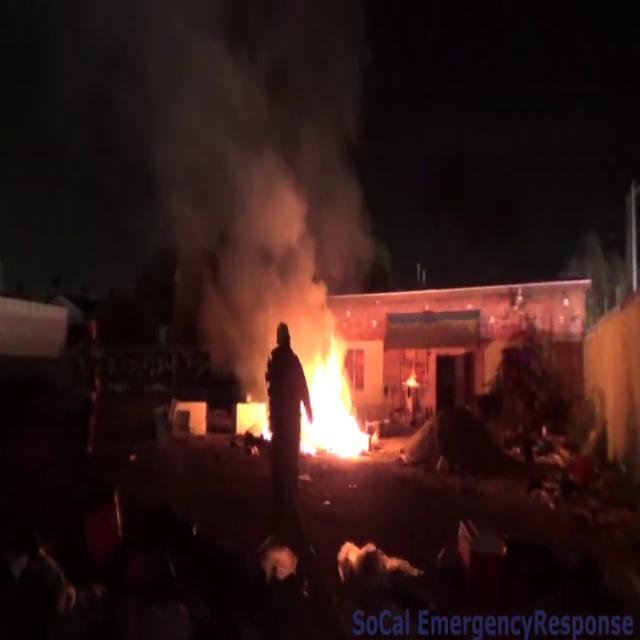Fire: (295, 324, 377, 464)
Smoke: (113, 1, 383, 352)
